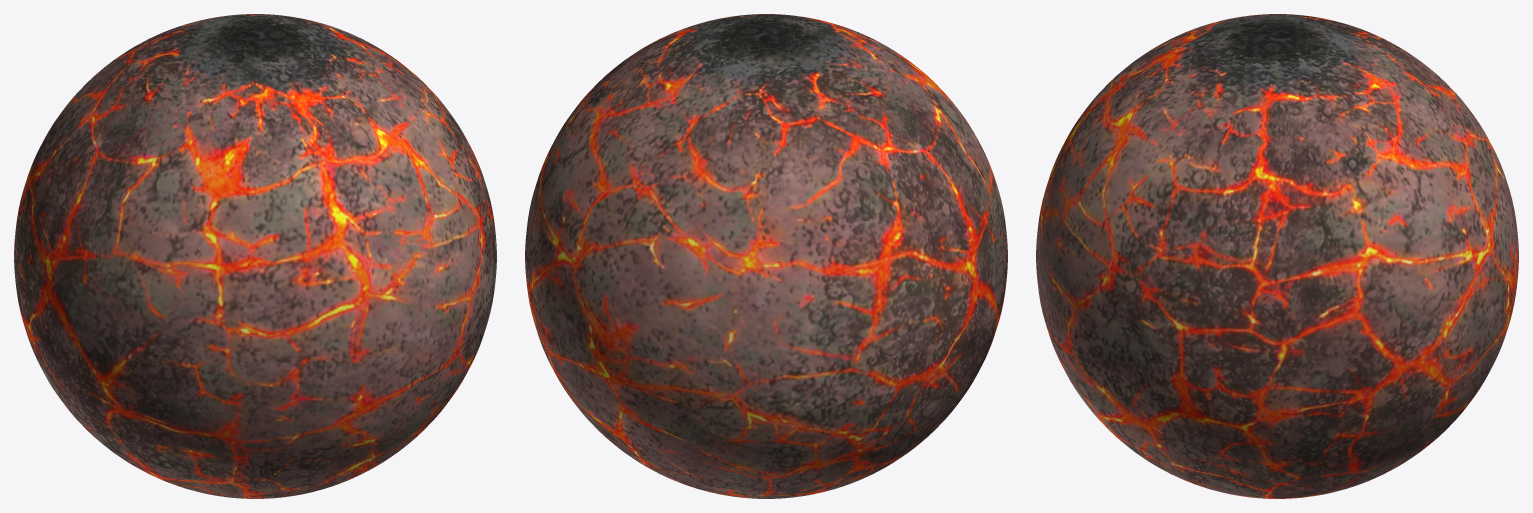
Rendered from 55cancrie.glb.
3 renders of one model, left to right at view 1: azimuth 30°, elevation 25°; view 2: azimuth 150°, elevation 25°; view 3: azimuth 270°, elevation 25°, orthographic.
Parts seen in each view (by area): view 1: Sphere_0; view 2: Sphere_0; view 3: Sphere_0.
Boxes of the visible parts, x1,y1,x2,y2 form: Sphere_0: (14, 14, 496, 498); Sphere_0: (525, 14, 1007, 498); Sphere_0: (1036, 14, 1518, 498).
Size of the model in its own units: 1.99 by 2 by 1.99.
1 material, 1 textured.
